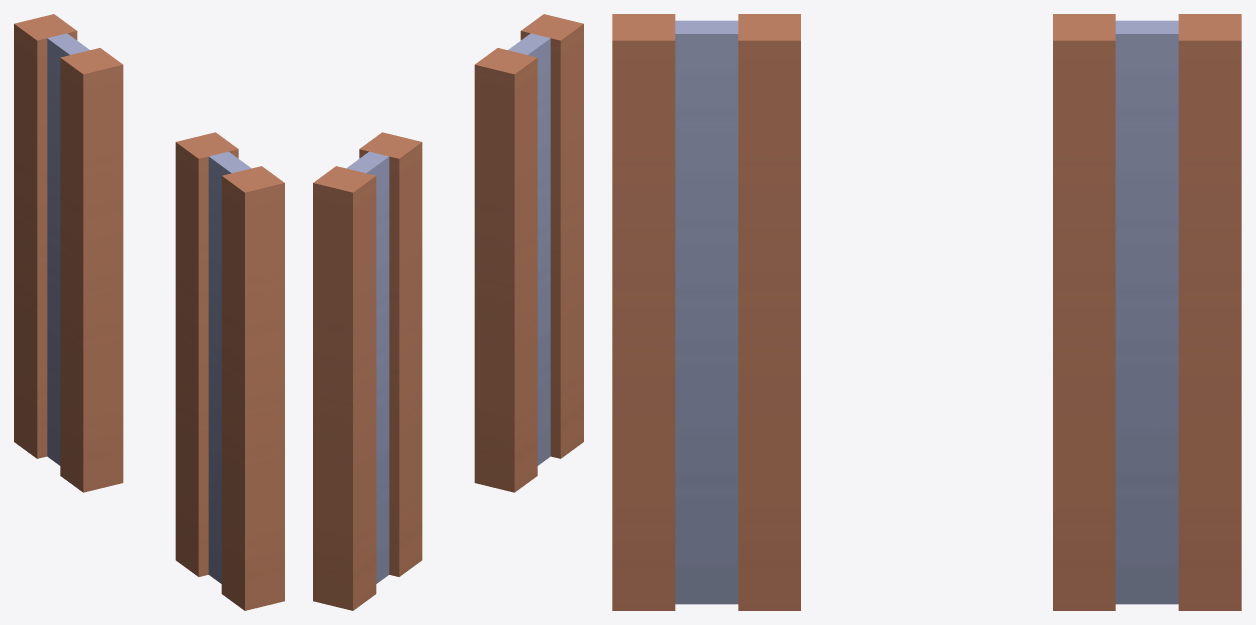
The model's file is wall-doorway-base.fbx.
3 views of the same model, side by side, from view 1: azimuth 30°, elevation 25°; view 2: azimuth 150°, elevation 25°; view 3: azimuth 270°, elevation 25° (orthographic). The views are drawn at different scales.
Visible parts, largest first — view 1: wall-doorway-base; view 2: wall-doorway-base; view 3: wall-doorway-base.
Part boxes in pixels (box(x1,y1,x2,y2)): wall-doorway-base: box(14, 14, 284, 610); wall-doorway-base: box(313, 14, 583, 610); wall-doorway-base: box(612, 14, 1241, 610).
Size of the model in its own units: 10 by 100 by 100.
1 material, 1 textured.
